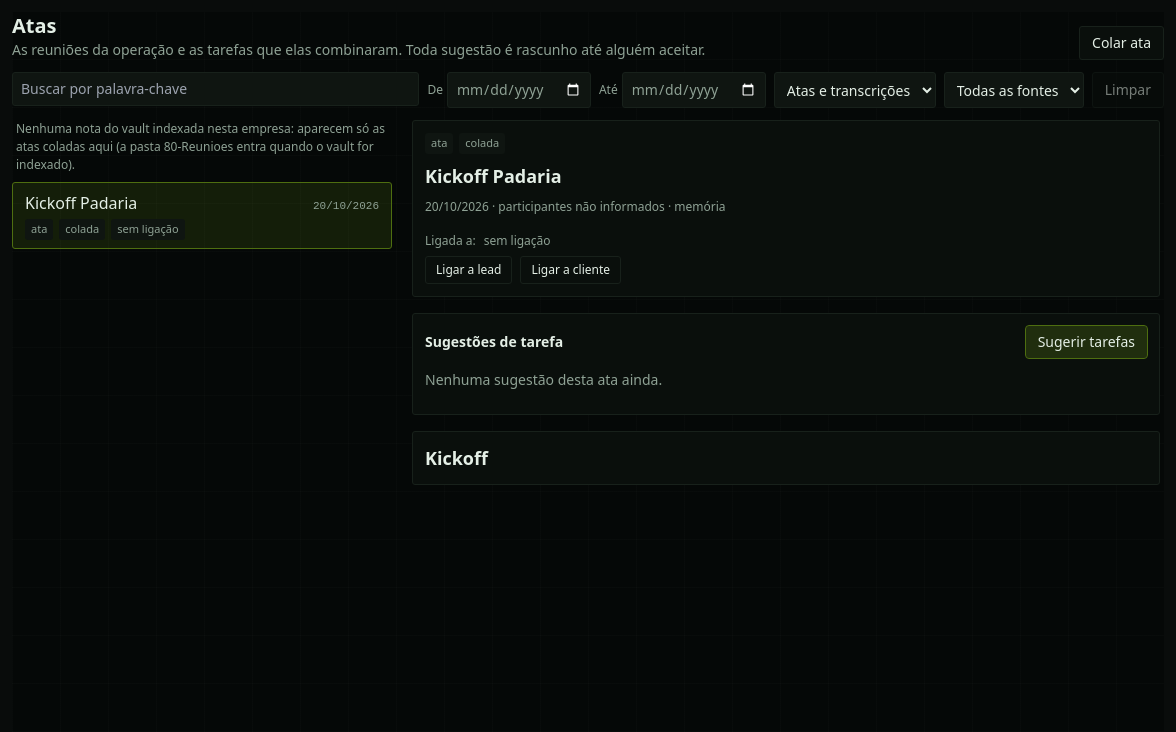
Test: Atas: ligar a ata a um lead ou a um cliente › a lista e a ata aberta dizem "sem ligação"; ligar a lead manda o PUT e mostra o lead com o link do painel
Expected: the text with test id "ata-sem-ligacao" is shown, 484,232 -> 551,250
Click the button with test id "ata-ligar-lead".
click(469, 270)  # box 425,256 -> 512,284
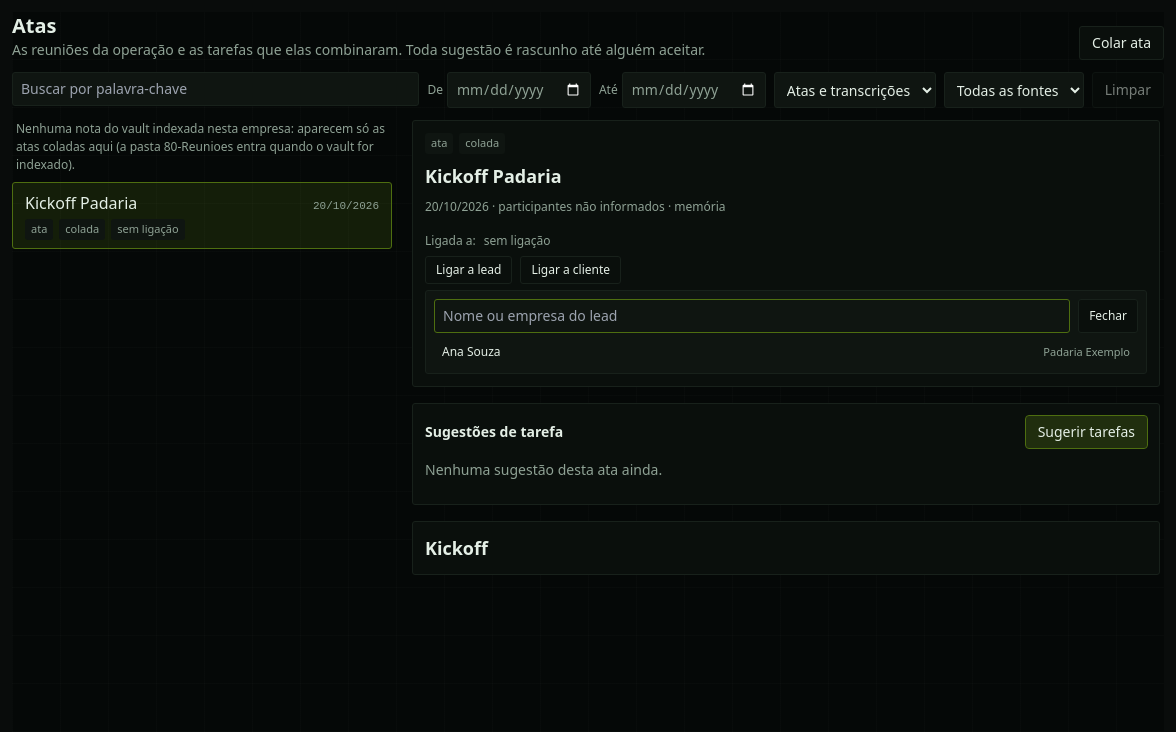
Click the button "Ana Souza Padaria Exemplo".
click(471, 351)  # box 434,338 -> 1138,364
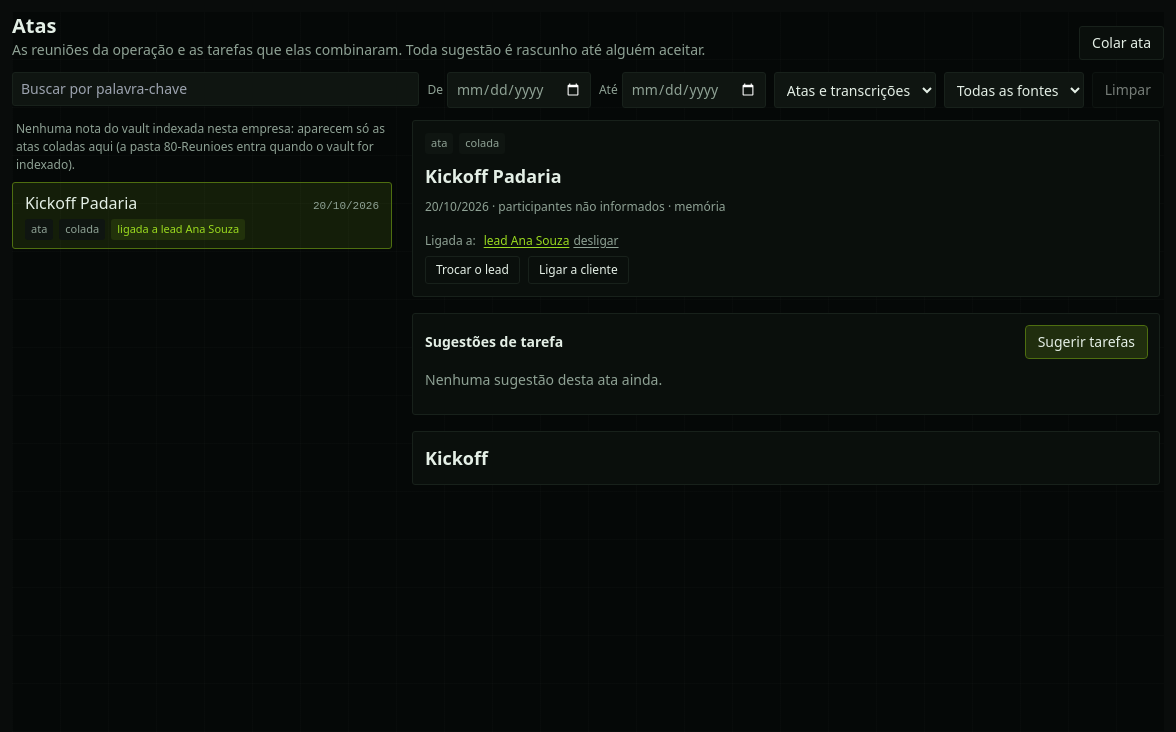
Expected: the link with test id "ata-ligada-lead" reads "lead Ana Souza", 484,232 -> 569,250
